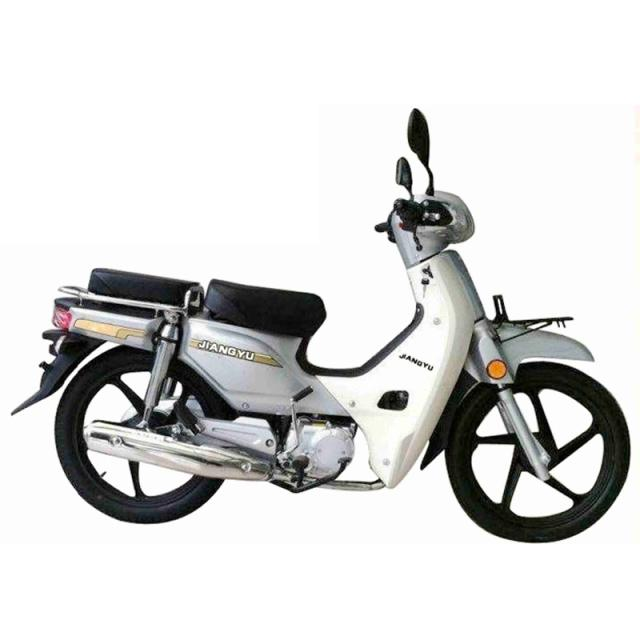Motorcycle: (28, 174, 630, 542)
